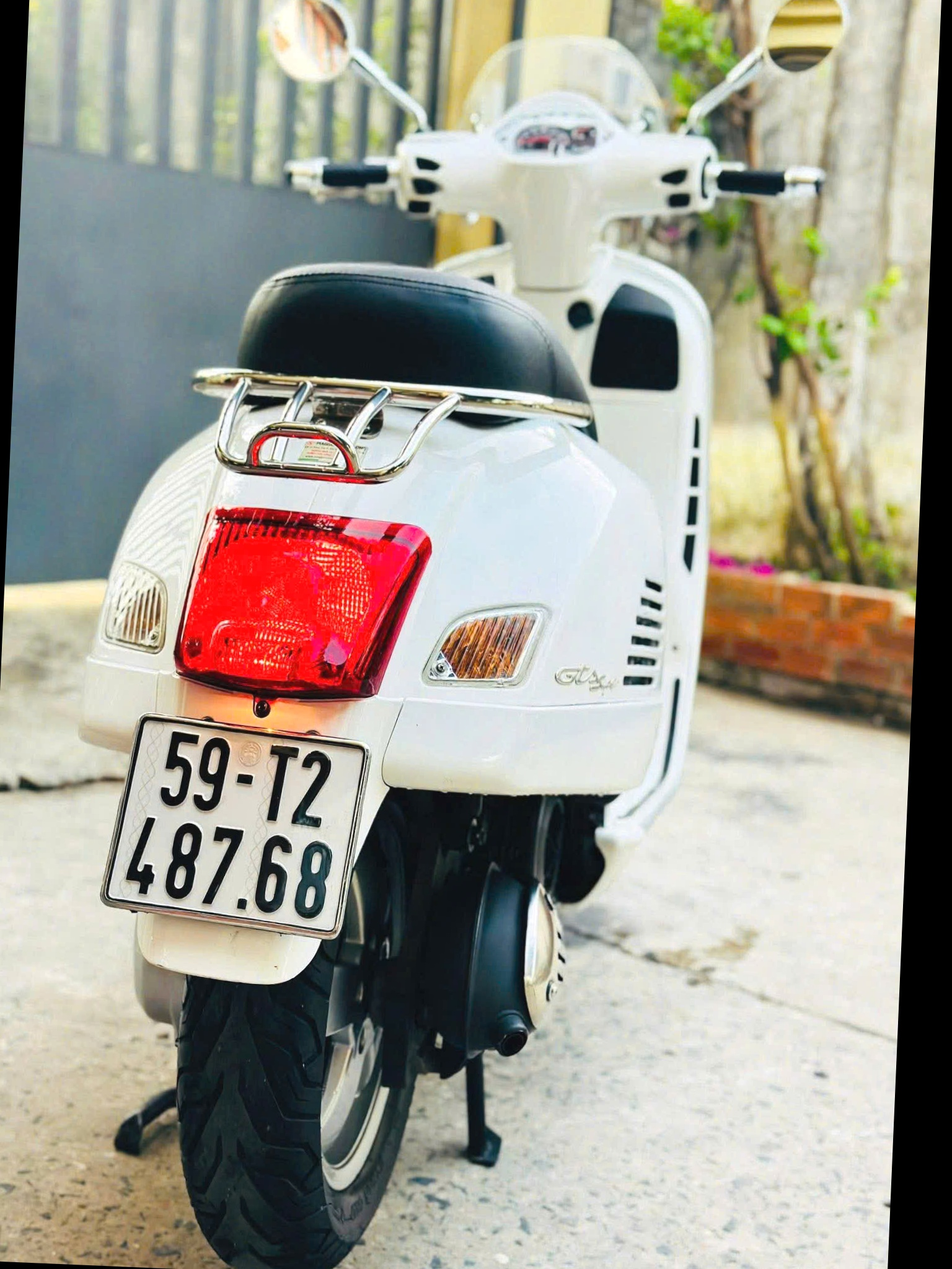Bien-so: (102, 722, 367, 934)
